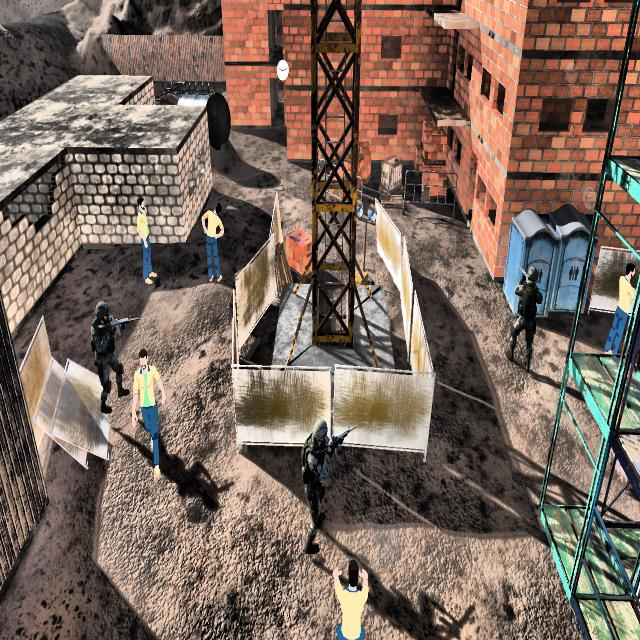bad: (296, 407, 353, 551), (80, 290, 132, 411), (506, 253, 542, 381)
good: (127, 348, 172, 480), (328, 553, 372, 640), (131, 185, 164, 294), (606, 253, 638, 355), (198, 196, 230, 290)
